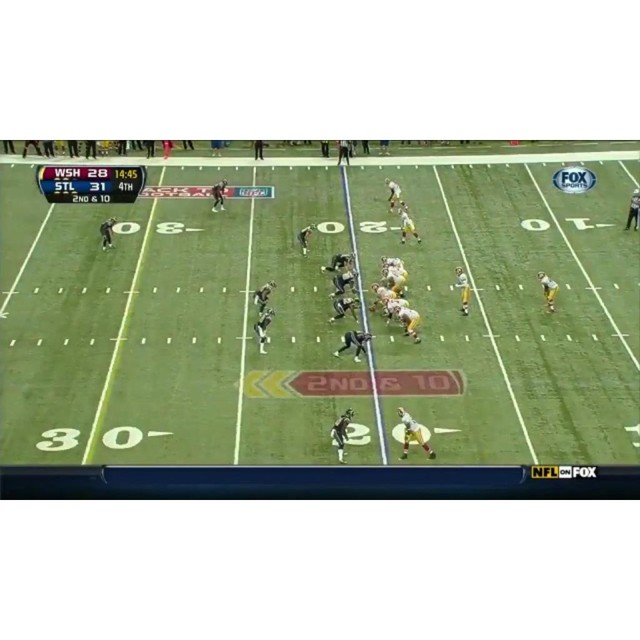american-football-player: (396, 408, 436, 460), (330, 407, 355, 463), (333, 330, 373, 362), (394, 304, 422, 344), (254, 308, 277, 355), (328, 296, 361, 326), (452, 265, 471, 316), (328, 270, 359, 300), (537, 271, 559, 313), (320, 252, 358, 276), (398, 209, 422, 245), (254, 279, 277, 314), (369, 282, 394, 314), (383, 296, 407, 327), (382, 267, 406, 297), (297, 222, 317, 258), (99, 216, 118, 251), (211, 177, 229, 212), (385, 177, 402, 213)
referee: (624, 189, 640, 232)
